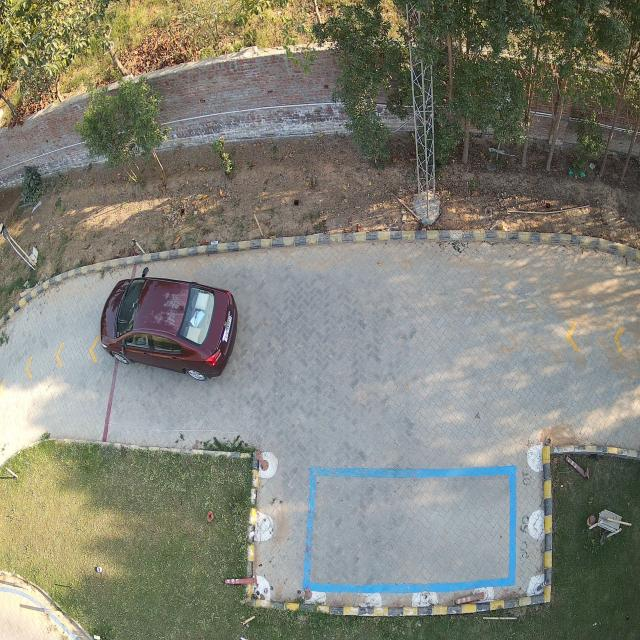car: (100, 272, 238, 380)
